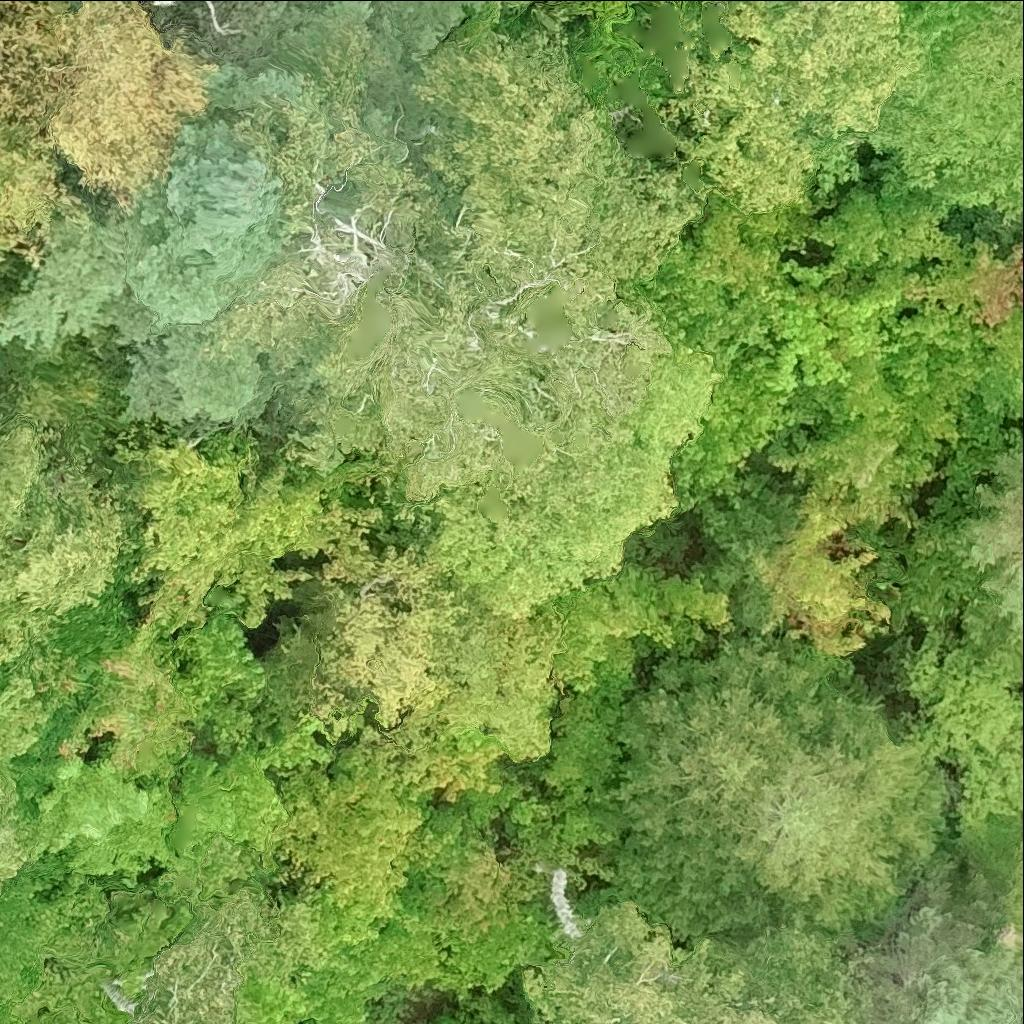crown: (610, 629, 948, 954), (432, 352, 726, 623), (654, 0, 924, 218), (126, 454, 381, 653), (0, 0, 217, 207), (413, 33, 606, 258), (0, 413, 150, 667), (267, 727, 439, 946), (372, 811, 569, 1000), (523, 903, 803, 1023), (831, 861, 1023, 1023), (636, 184, 786, 377), (307, 546, 464, 725), (0, 875, 187, 1023), (748, 491, 887, 677), (804, 321, 958, 474), (553, 565, 735, 691), (900, 298, 1005, 515), (52, 643, 195, 784), (111, 437, 242, 584), (810, 170, 945, 308), (762, 260, 901, 393), (668, 358, 788, 510), (899, 620, 1023, 764), (539, 662, 631, 849), (127, 900, 266, 1023), (737, 912, 873, 1023), (950, 439, 1023, 631), (0, 115, 84, 264), (906, 237, 1023, 326), (392, 724, 507, 803), (953, 751, 1023, 835), (953, 0, 1023, 82), (978, 306, 1023, 424), (0, 675, 51, 773), (980, 841, 1023, 956), (0, 773, 27, 889), (478, 998, 519, 1023), (1012, 700, 1023, 729), (504, 0, 547, 7)
